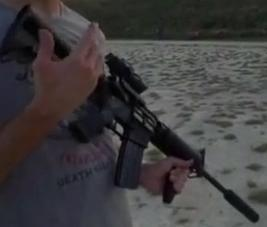gun: (1, 1, 267, 227)
